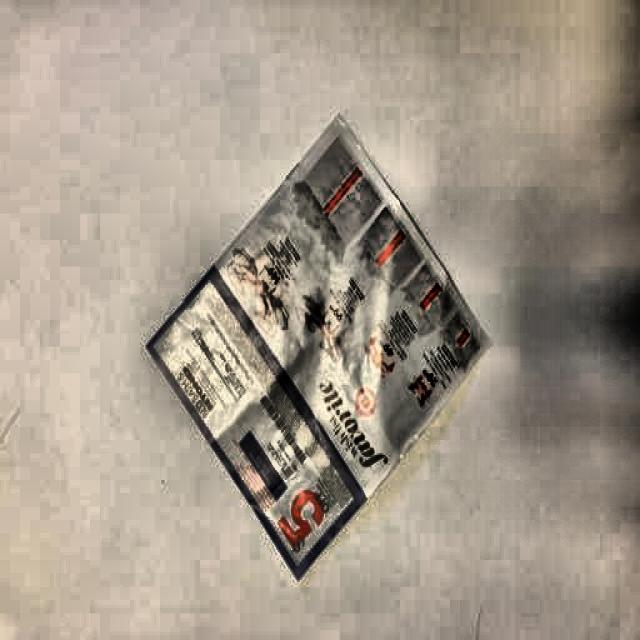paper: (135, 113, 483, 572)
